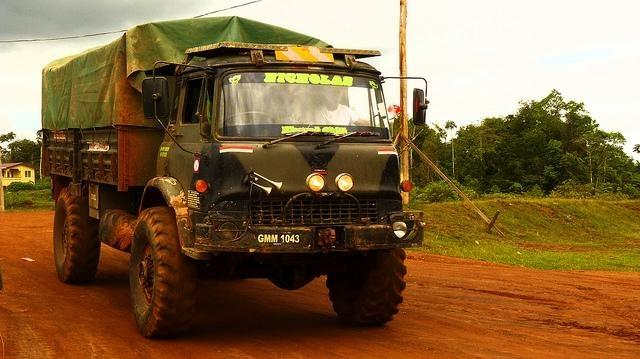truck: (34, 16, 428, 338)
